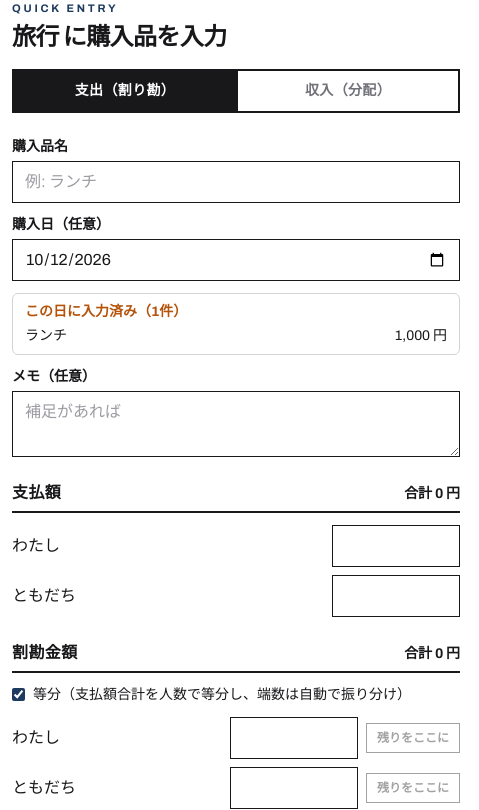
it: 保存時に 401 が返るとセッション切れメッセージを表示する
Type "ランチ" into the field labelled "購入品名" at (236, 182), box [12,160,460,202]
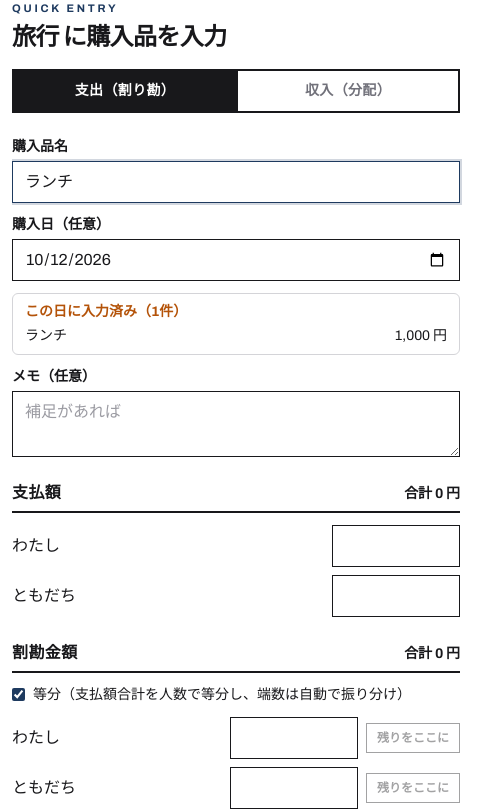
Type "1000" into the number field named "わたし の支払額" at (396, 546), box [332,524,460,566]
(page scrolled)
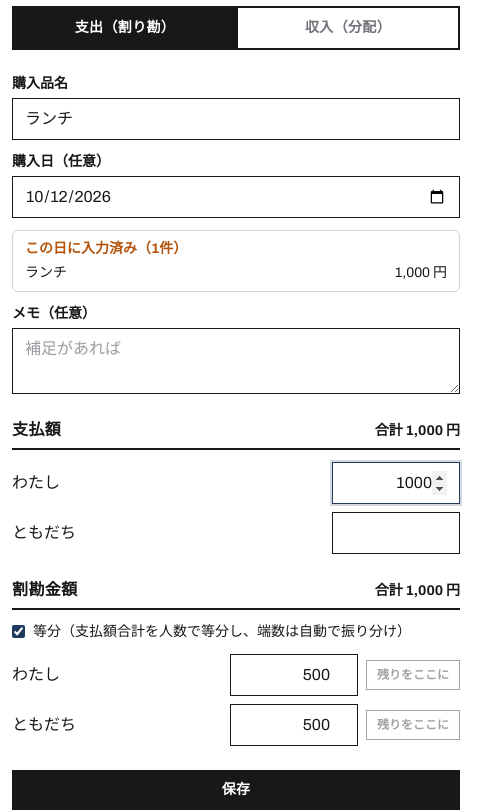
Click the button "保存" at (236, 790), box [12,770,460,809]
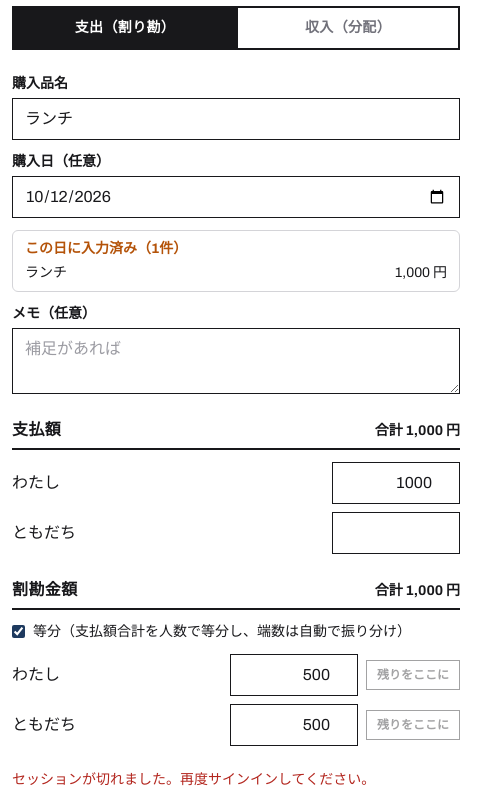
expect the text "セッションが切れました。再度サインインしてください。" is shown: met, box [12,772,375,786]
